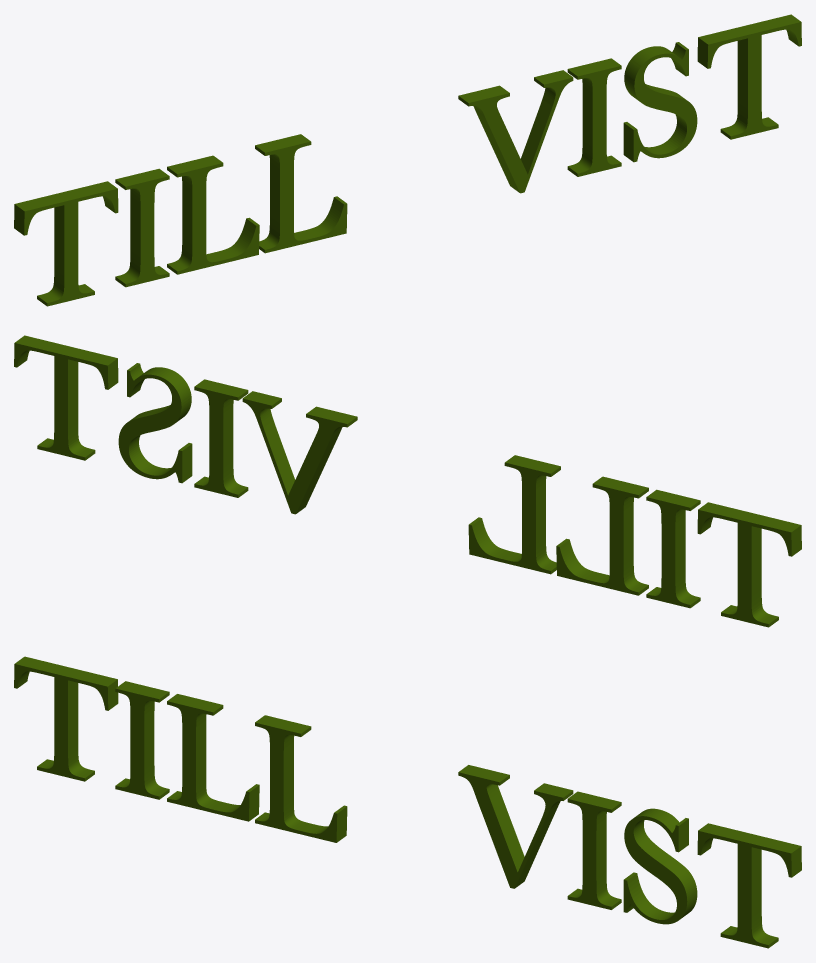
Rendered from TILLVISTQ.glb.
The picture shows the model from 3 angles, top to bottom: view 1: azimuth 30°, elevation 25°; view 2: azimuth 150°, elevation 25°; view 3: azimuth 330°, elevation 25°; orthographic projection.
Visible parts, largest first — view 1: First L; view 2: First L; view 3: First L.
Part boxes in pixels (left/top/right/bottom): First L: left=14, top=14, right=801, bottom=306; First L: left=14, top=335, right=801, bottom=627; First L: left=14, top=656, right=801, bottom=948.
Bounding box in the file's own units: 0.8421 × 0.1085 × 0.019.
